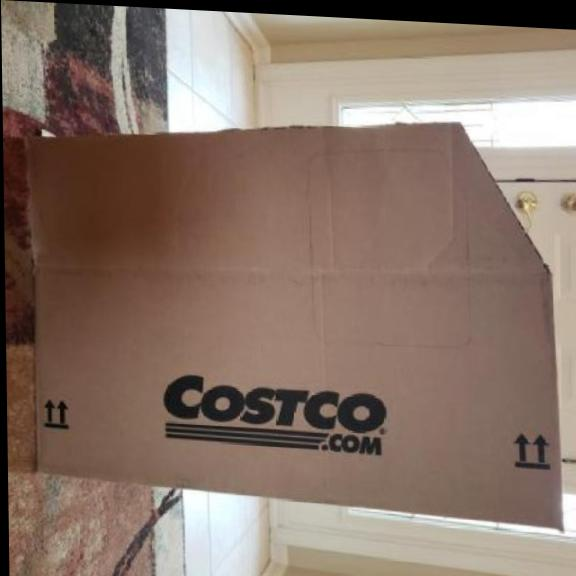Kertas: (27, 124, 560, 529)
